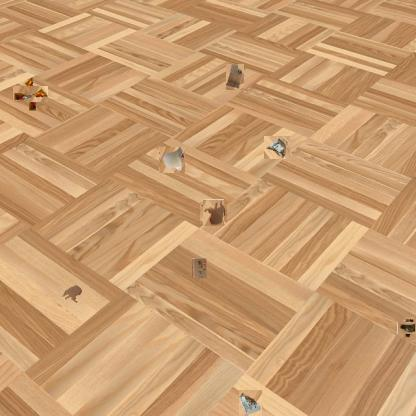dirty: (159, 147, 185, 173), (17, 81, 43, 107), (264, 135, 289, 160), (238, 390, 262, 416), (226, 64, 244, 90), (400, 319, 416, 337), (192, 258, 206, 278)
liquid: (201, 201, 226, 225), (60, 284, 84, 304)
